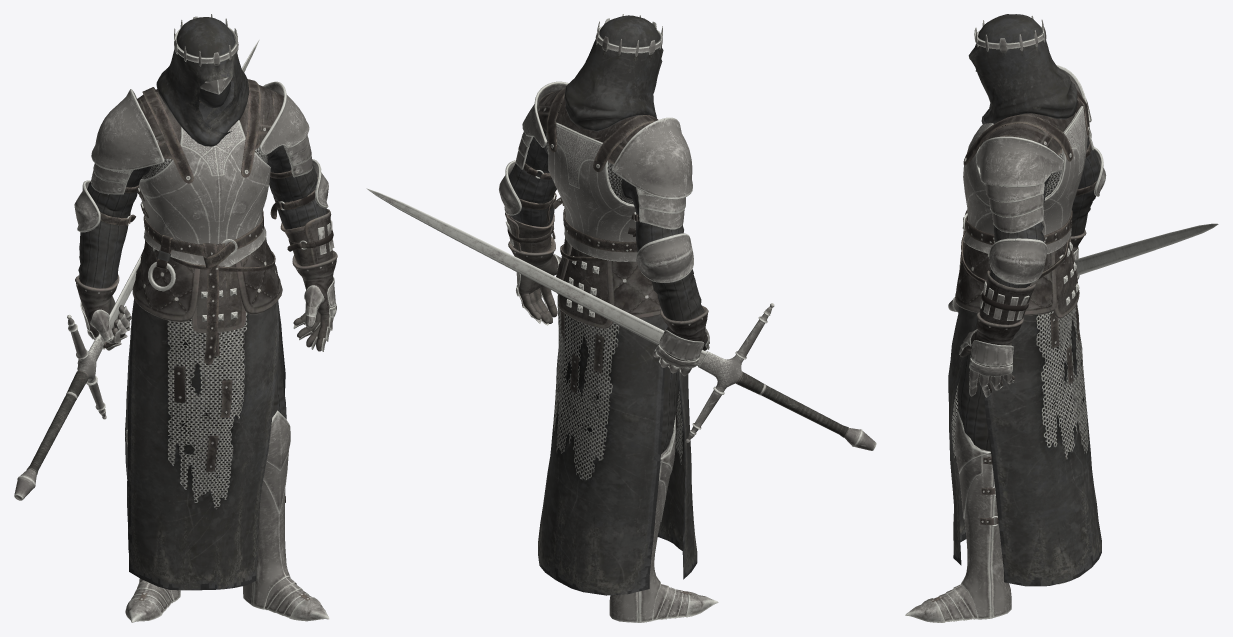
Rendered from knight.glb.
The picture shows the model from 3 angles, left to right: view 1: azimuth 30°, elevation 25°; view 2: azimuth 150°, elevation 25°; view 3: azimuth 270°, elevation 25°; orthographic projection.
Parts seen in each view (by area): view 1: Dress_Dress_low1:Group11302, Chest_FrontPlate_low1:Group20911, Hood_Hood_low1:Group48674, Padded_Shirt_low1:Group49776, Belt_SideRing_low1:Group30502, Boot_Toe_low2:Group45608, Shoulder_Right_low1:Group15440, Belt_SideRing_low1:Group41826, Chest_TopStraps_low1:Group16616, UnderShoulder_UnderLeather_low1:Group23786, Belt_SideRing_low1:Group24290, Gloves_Gloves_low1:Group35219 (+18 smaller); view 2: Dress_Dress_low1:Group11302, Hood_Hood_low1:Group48674, Chest_BackPlate_low1:Group5865, Padded_Shirt_low1:Group49776, Shoulder_Right_low1:Group15440, Merged_Sword_Sides_low1:Group62261, Boot_Toe_low1:Group45608, Belt_SideRing_low1:Group30502, Shoulder_Elbow_low2:Group60197, Belt_SideRing_low1:Group6118, Gloves_Gloves_low1:Group35219, Chest_TopStraps_low1:Group16616 (+13 smaller); view 3: Dress_Dress_low1:Group11302, Hood_Hood_low1:Group48674, Boot_Toe_low2:Group45608, Shoulder_Left_low1:Group39818, Chest_BackPlate_low1:Group5865, Belt_SideRing_low1:Group30502, Padded_Shirt_low1:Group49776, Shoulder_Elbow_low1:Group60197, Chest_FrontPlate_low1:Group20911, Merged_Sword_Sides_low1:Group62261, Padded_Pants_low1:Group5200, Chest_TopStraps_low1:Group16616 (+12 smaller).
Part boxes in pixels (box(x1,y1,x2,y2)): Dress_Dress_low1:Group11302: box(125, 249, 285, 590); Chest_FrontPlate_low1:Group20911: box(139, 120, 270, 266); Hood_Hood_low1:Group48674: box(156, 17, 249, 146); Padded_Shirt_low1:Group49776: box(78, 145, 327, 288); Belt_SideRing_low1:Group30502: box(132, 237, 282, 322); Boot_Toe_low2:Group45608: box(243, 410, 290, 609); Shoulder_Right_low1:Group15440: box(91, 89, 164, 171); Belt_SideRing_low1:Group41826: box(143, 210, 263, 364); Chest_TopStraps_low1:Group16616: box(142, 79, 260, 183); UnderShoulder_UnderLeather_low1:Group23786: box(136, 78, 283, 159); Belt_SideRing_low1:Group24290: box(192, 264, 246, 332); Gloves_Gloves_low1:Group35219: box(292, 250, 337, 351); Dress_Dress_low1:Group11302: box(538, 294, 697, 595); Hood_Hood_low1:Group48674: box(564, 15, 663, 131); Chest_BackPlate_low1:Group5865: box(548, 122, 637, 261); Padded_Shirt_low1:Group49776: box(508, 129, 704, 321); Shoulder_Right_low1:Group15440: box(612, 117, 692, 199); Merged_Sword_Sides_low1:Group62261: box(366, 188, 706, 365); Boot_Toe_low1:Group45608: box(609, 415, 675, 622); Belt_SideRing_low1:Group30502: box(556, 237, 661, 318); Shoulder_Elbow_low2:Group60197: box(636, 233, 693, 282); Belt_SideRing_low1:Group6118: box(558, 246, 612, 328); Gloves_Gloves_low1:Group35219: box(508, 236, 558, 323); Chest_TopStraps_low1:Group16616: box(547, 88, 658, 171); Dress_Dress_low1:Group11302: box(948, 303, 1101, 586); Hood_Hood_low1:Group48674: box(968, 14, 1077, 124); Boot_Toe_low2:Group45608: box(954, 411, 1011, 619); Shoulder_Left_low1:Group39818: box(976, 136, 1064, 187); Chest_BackPlate_low1:Group5865: box(1041, 106, 1087, 254); Belt_SideRing_low1:Group30502: box(955, 237, 1077, 315); Padded_Shirt_low1:Group49776: box(989, 135, 1100, 288); Shoulder_Elbow_low1:Group60197: box(989, 238, 1047, 284); Chest_FrontPlate_low1:Group20911: box(963, 123, 994, 253); Merged_Sword_Sides_low1:Group62261: box(1075, 223, 1218, 275); Padded_Pants_low1:Group5200: box(957, 322, 990, 451); Chest_TopStraps_low1:Group16616: box(963, 88, 1089, 164).
Size of the model in its own units: 1.25 by 1.83 by 0.9131.
Materials: 3 (3 with a texture image).
